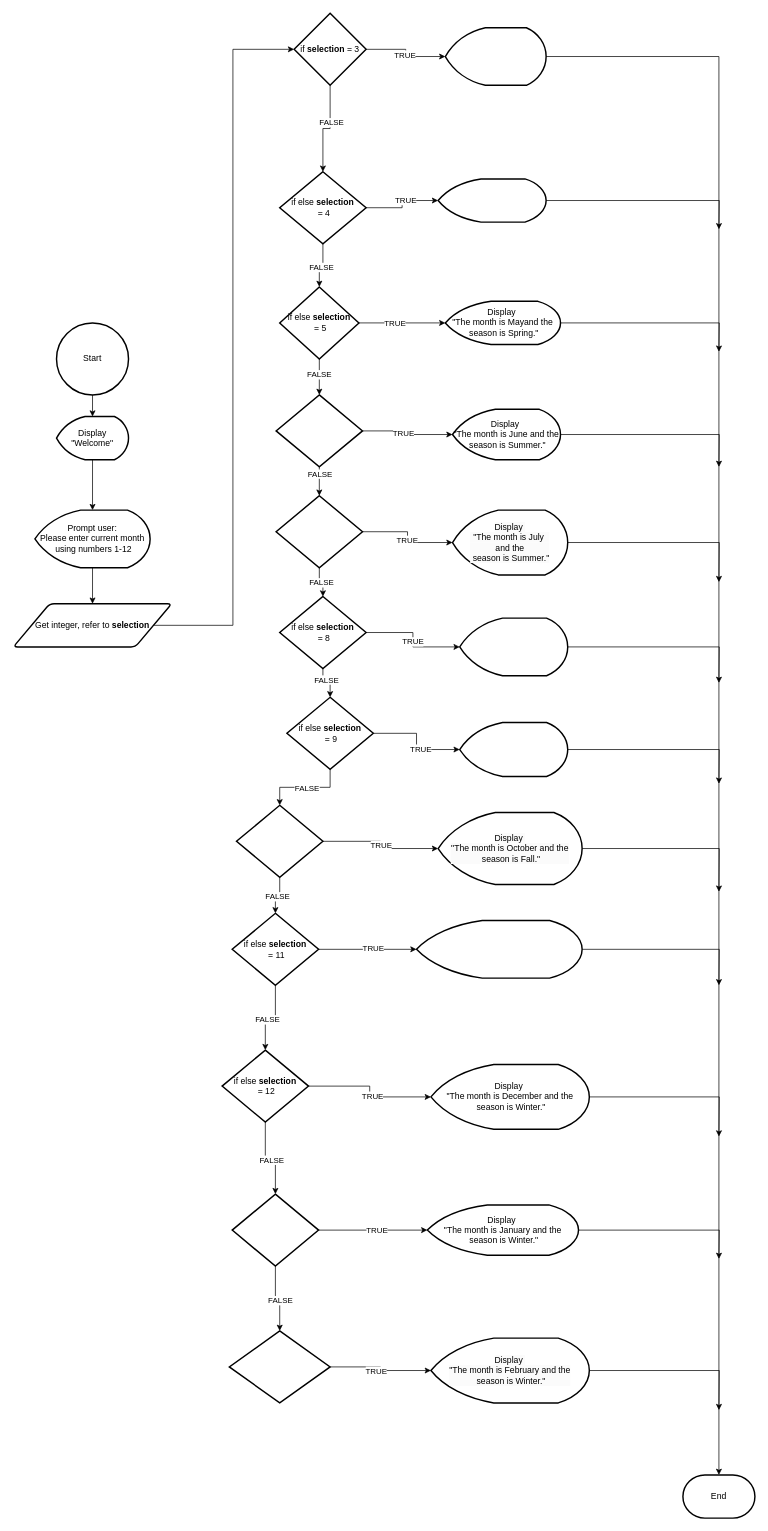
This 768x1531 diagram has some shape labels left out. Each missing label, with the box of its shape:
Display "The month is April and the season is Spring.": (437, 178, 546, 222)
Display "The month is August and the season is Summer.": (459, 617, 568, 676)
Display "The month is March and the season is Spring.": (444, 27, 546, 86)
Display "The month is November and the season is Fall.": (415, 919, 582, 978)
Display "The month is September and the season is Fall.": (459, 721, 568, 777)
if else selection = 1: (231, 1193, 319, 1266)
if else selection = 10: (235, 804, 323, 878)
if else selection = 2: (228, 1330, 330, 1403)
if else selection = 6: (275, 394, 363, 467)
if else selection = 7: (275, 495, 363, 568)
